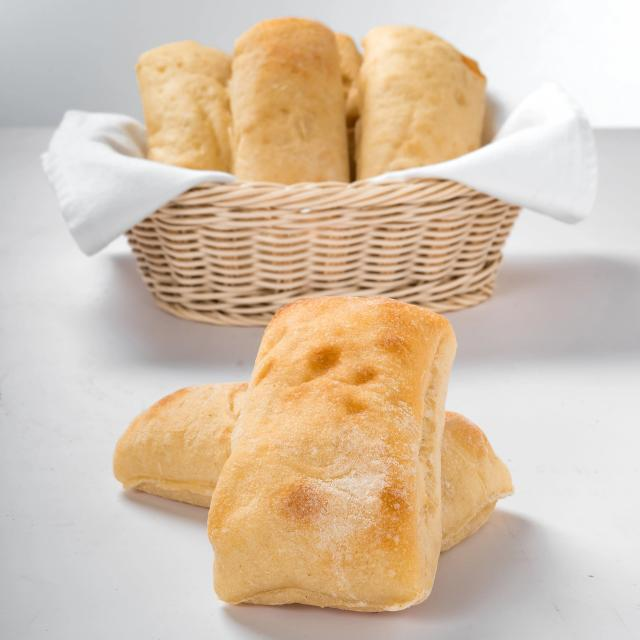Ciabatta: (208, 298, 455, 611), (227, 18, 350, 184), (356, 26, 486, 179), (113, 382, 248, 507), (136, 41, 232, 172), (441, 411, 513, 551)
